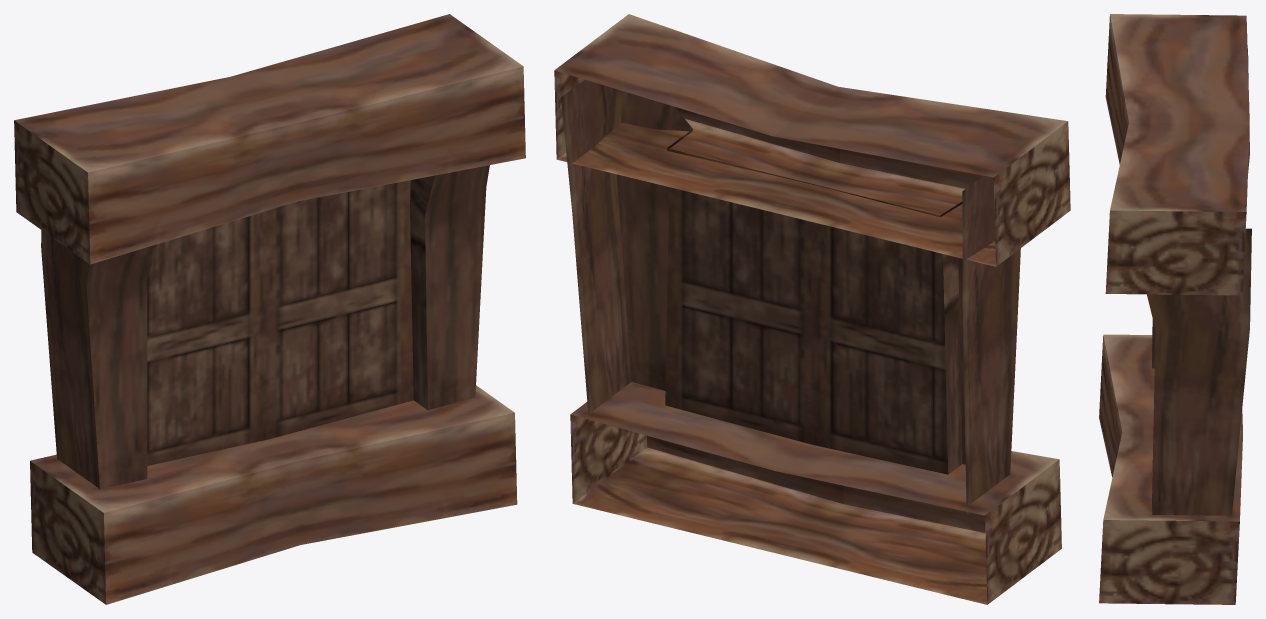
The model's file is window_box_closeLOD.fbx.
The picture shows the model from 3 angles, left to right: view 1: azimuth 30°, elevation 25°; view 2: azimuth 150°, elevation 25°; view 3: azimuth 270°, elevation 25°; orthographic projection. The views are drawn at different scales.
Parts seen in each view (by area): view 1: janela_quadrada_Fechada_LOD0; view 2: janela_quadrada_Fechada_LOD0; view 3: janela_quadrada_Fechada_LOD0.
Part boxes in pixels (x1,y1,x2,y2): janela_quadrada_Fechada_LOD0: [14, 14, 525, 604]; janela_quadrada_Fechada_LOD0: [554, 14, 1070, 604]; janela_quadrada_Fechada_LOD0: [1099, 14, 1251, 604].
Size of what is drawn, in the model's own units: 72.84 by 69.15 by 23.96.
